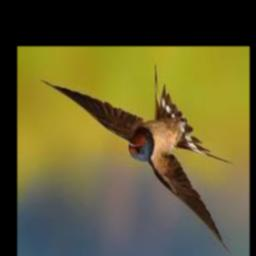Swallow: (41, 65, 233, 256)
